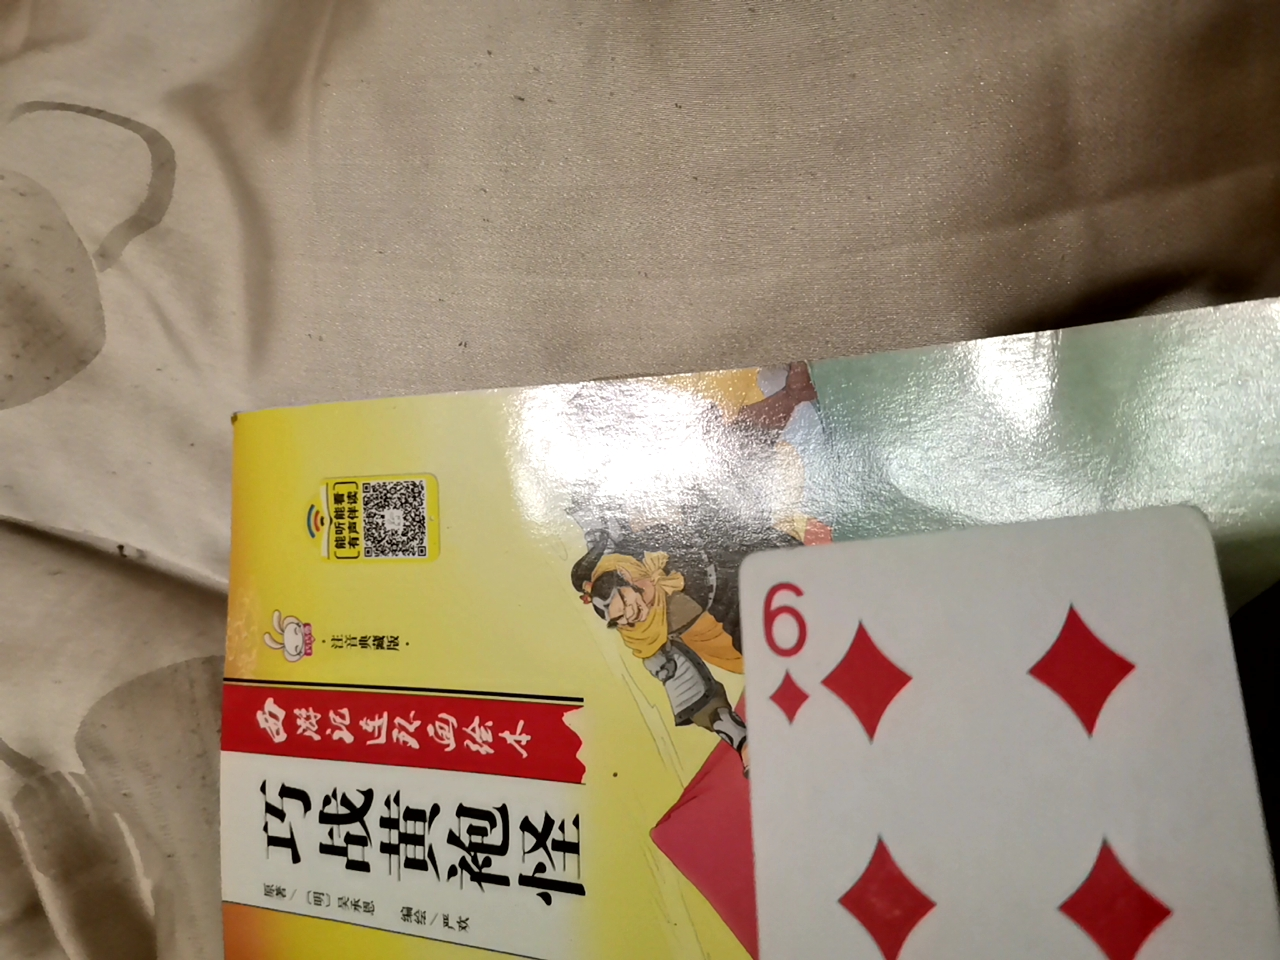fk 6: (740, 512, 1270, 960)
